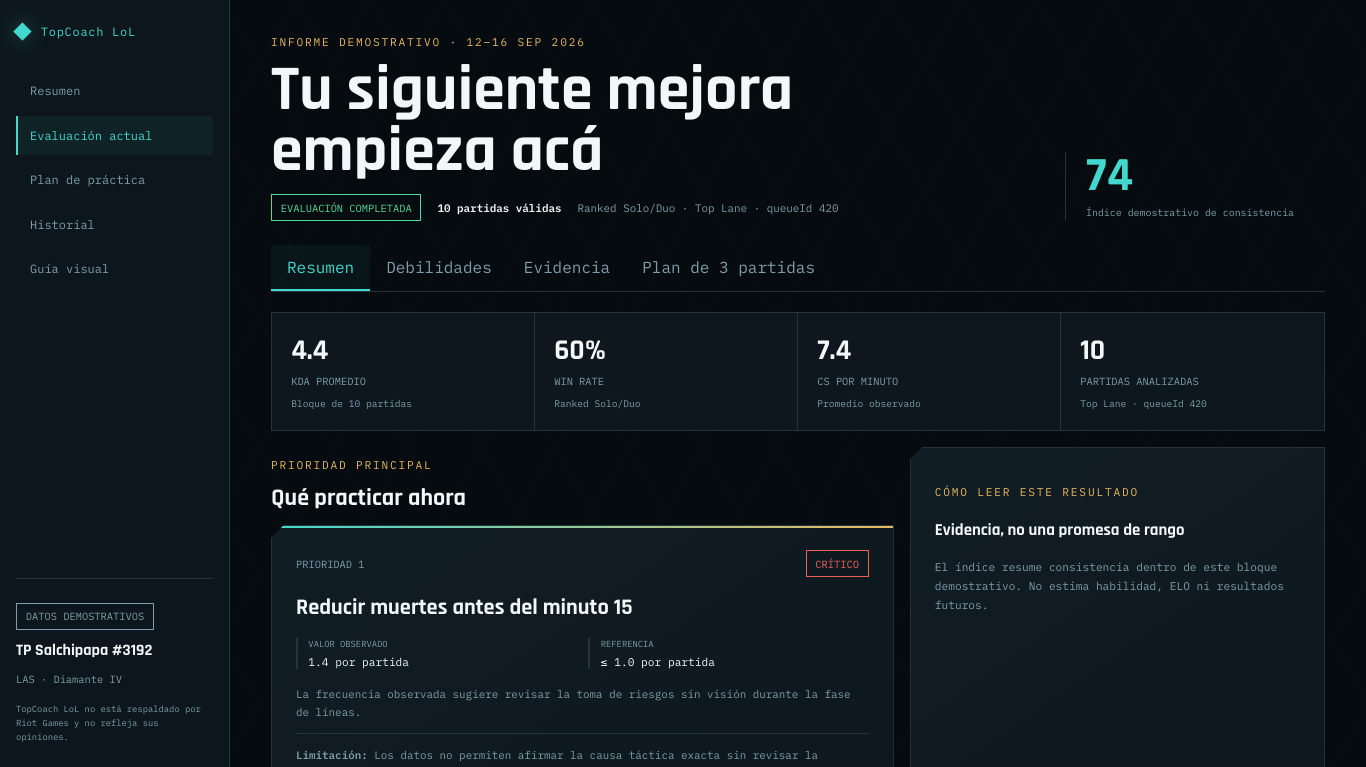
Scenario: evaluation flow › renders summary values consistent with the ten-match evidence
The width and height of the screenshot is (1366, 767).
Expected: the text "4.4" is shown, [291, 332, 328, 369]
Expected: the text "60%" is shown, [554, 332, 606, 369]
Click the tab "Debilidades".
click(439, 268)  # box [370, 245, 508, 291]
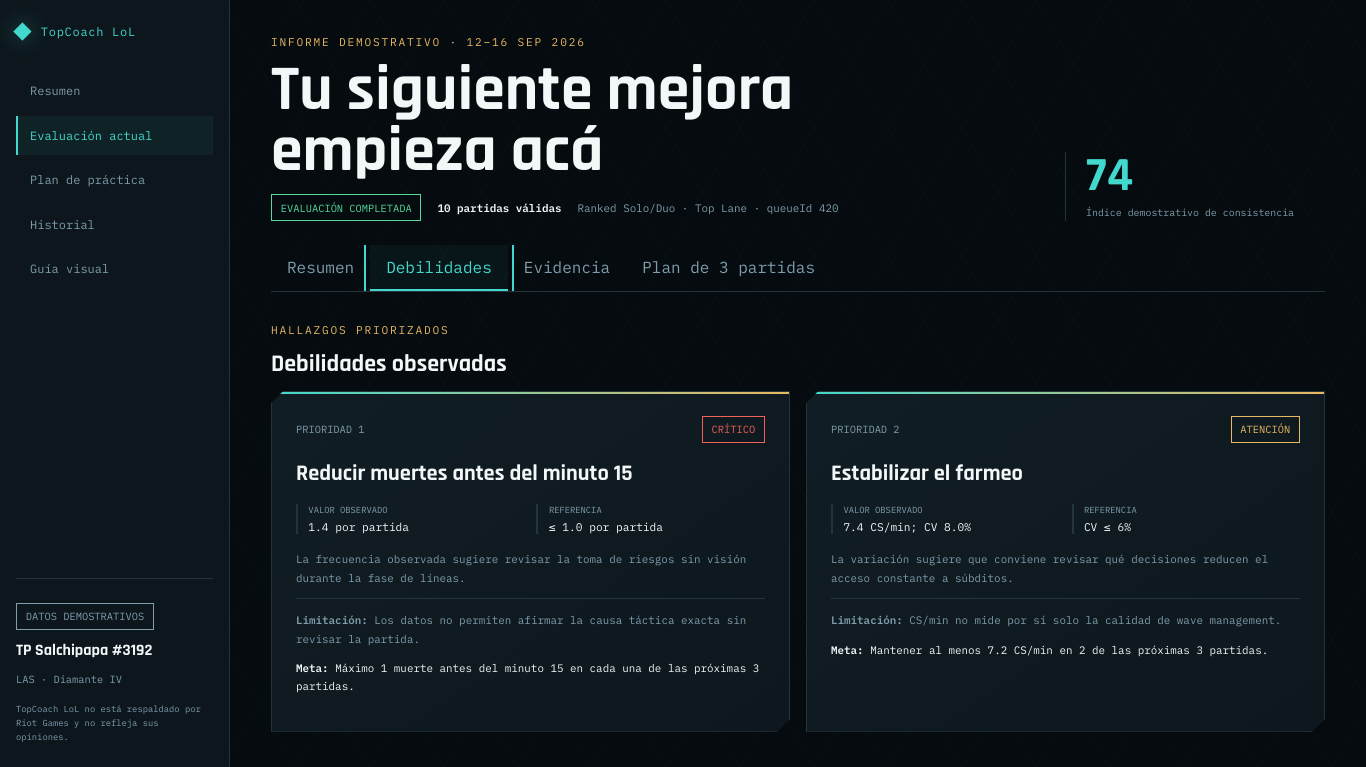
Expected: the text "1.4 por partida" is shown, [308, 520, 409, 534]
Now the text "7.4 CS/min; CV 8.0%" is shown, box [843, 520, 971, 534]
Now the text "CV ≤ 6%" is shown, box [1084, 520, 1131, 534]
